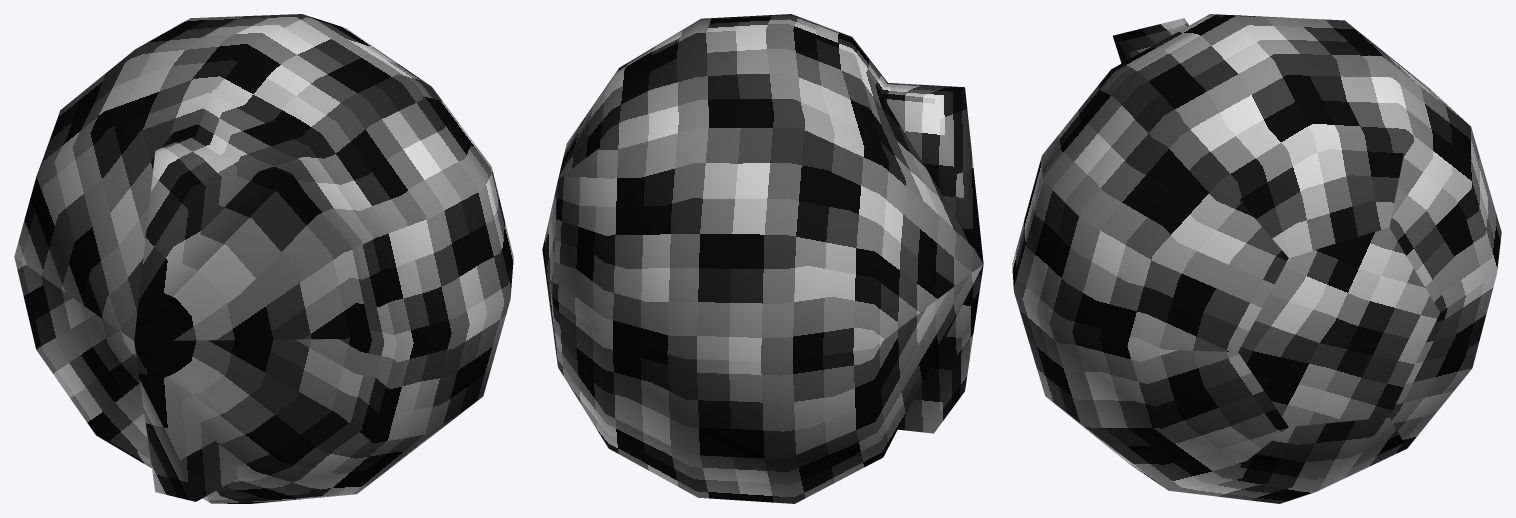
Rendered from hlmt_wig_afro.dae.
The picture shows the model from 3 angles, left to right: view 1: azimuth 30°, elevation 25°; view 2: azimuth 150°, elevation 25°; view 3: azimuth 270°, elevation 25°; orthographic projection.
Visible parts, largest first — view 1: hlmt_wig_afro; view 2: hlmt_wig_afro; view 3: hlmt_wig_afro.
Part boxes in pixels (left/top/right/bottom): hlmt_wig_afro: left=14, top=14, right=513, bottom=503; hlmt_wig_afro: left=542, top=14, right=983, bottom=503; hlmt_wig_afro: left=1012, top=14, right=1501, bottom=503.
Bounding box in the file's own units: 26.22 × 30.65 × 29.46.
Materials: 1 (1 with a texture image).
